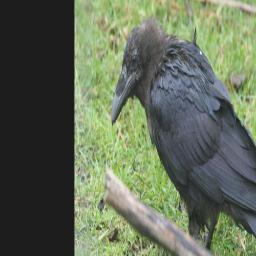Crow: (109, 17, 256, 254)
